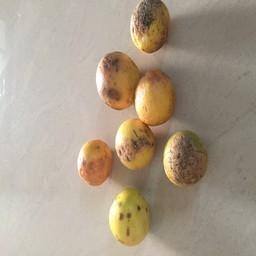Bad_lime: (161, 128, 209, 188), (94, 48, 136, 112), (108, 189, 153, 248), (130, 0, 173, 54), (135, 72, 178, 125), (115, 117, 156, 170), (76, 136, 115, 189)
